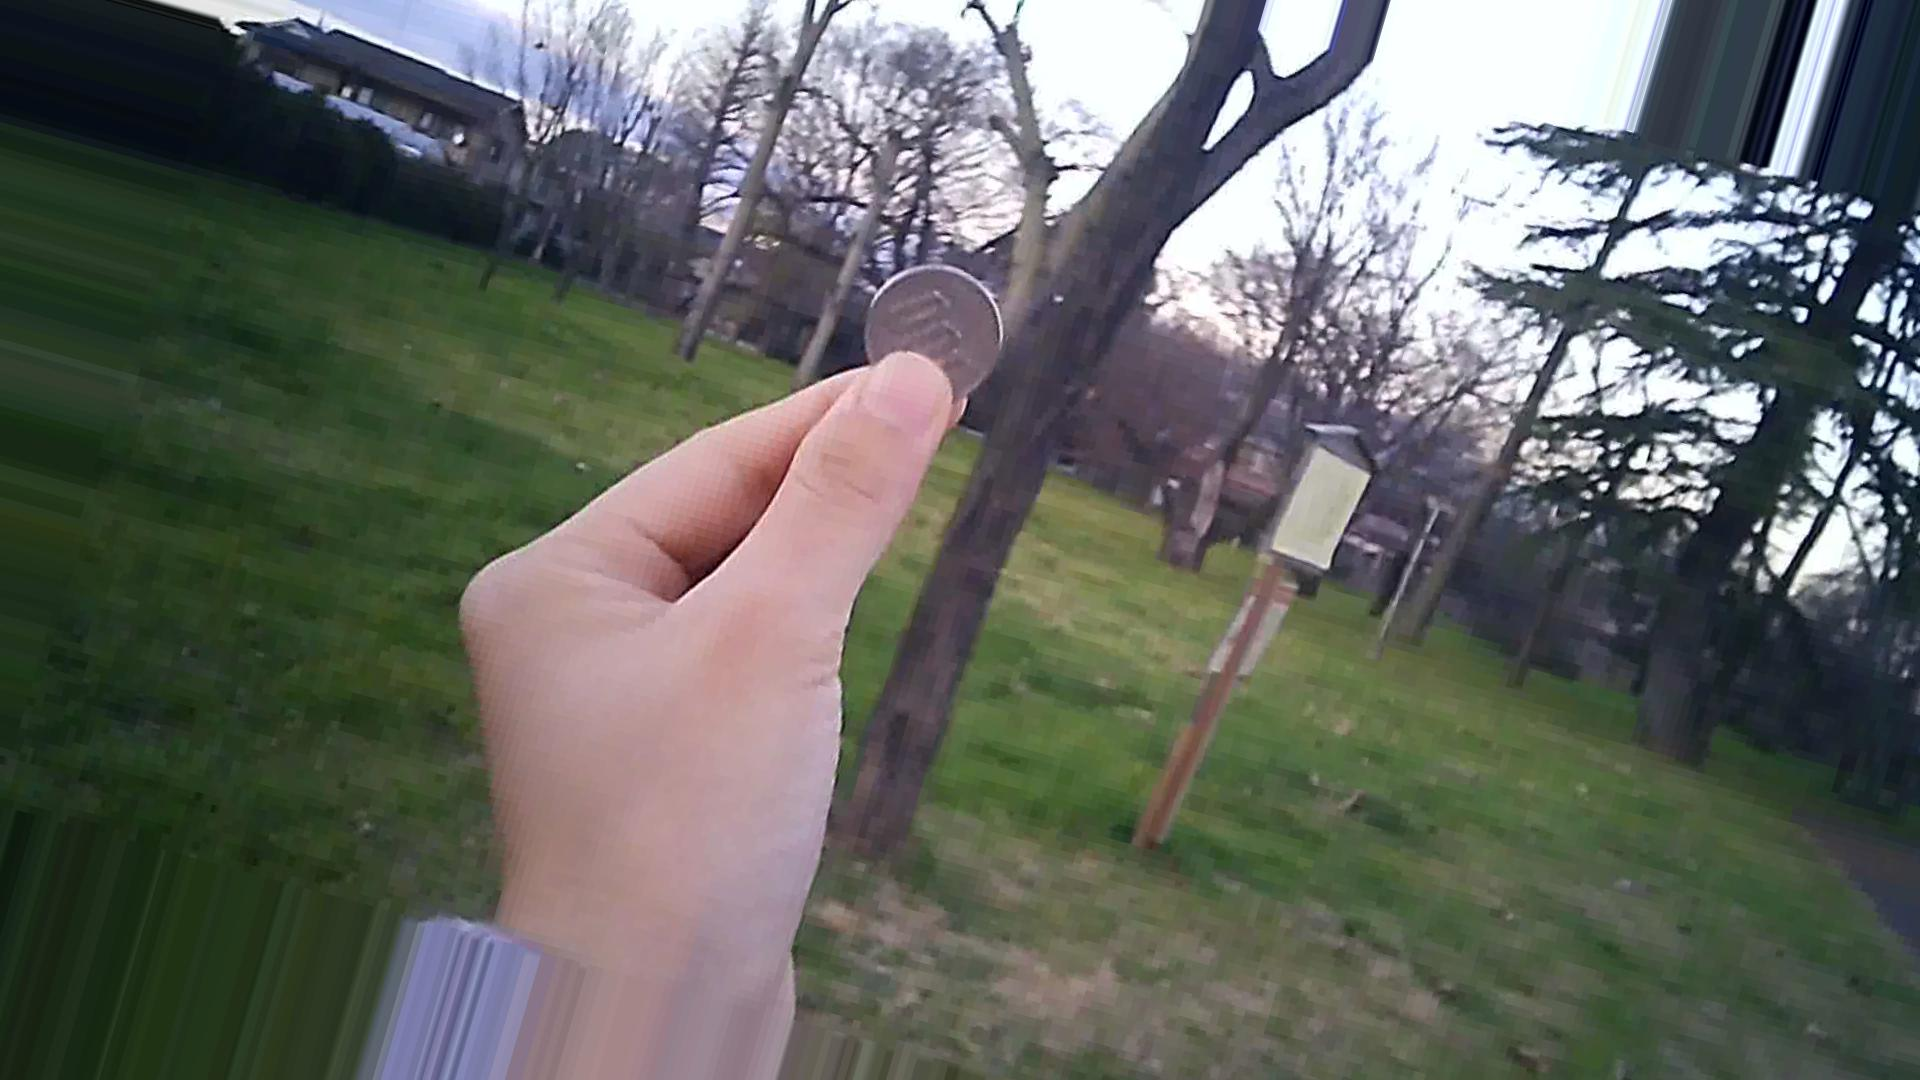100 Yen: (864, 261, 1005, 393)
